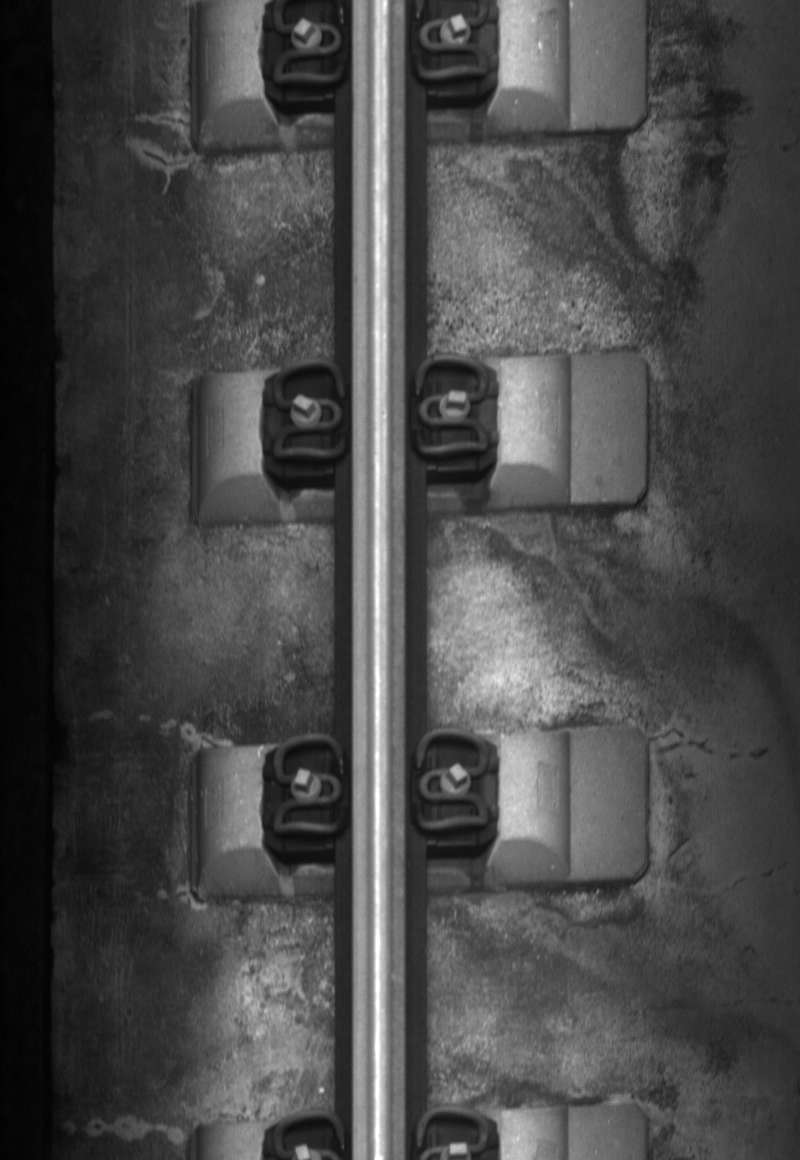l_faster: (266, 355, 350, 468), (268, 728, 349, 845)
r_faster: (408, 349, 493, 466), (410, 726, 493, 836)
